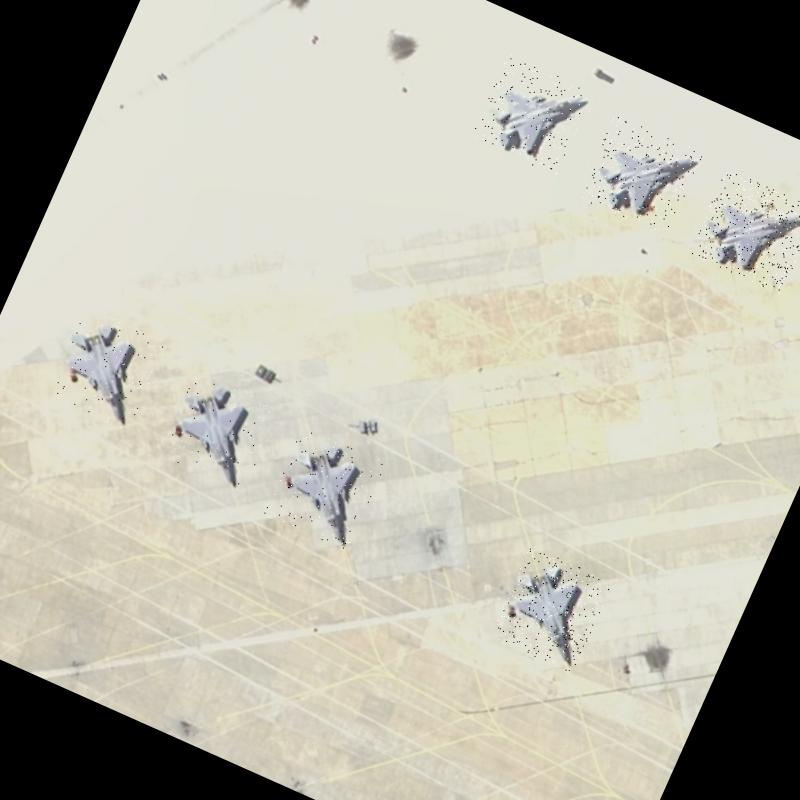A13: (489, 546, 614, 674), (156, 368, 281, 492), (578, 114, 704, 237), (45, 306, 168, 431), (264, 426, 386, 552), (470, 54, 594, 177), (688, 168, 800, 294)
